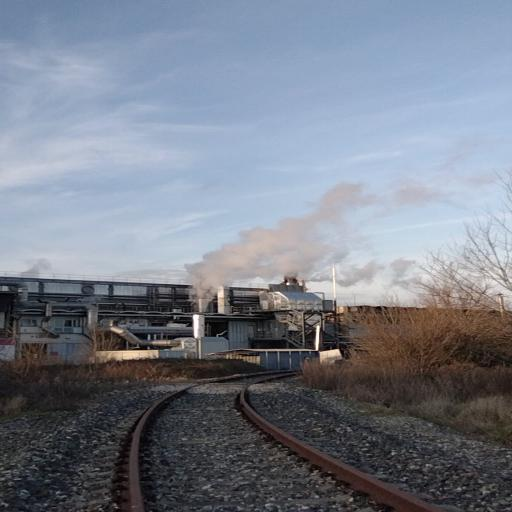leakage: (169, 164, 505, 314)
